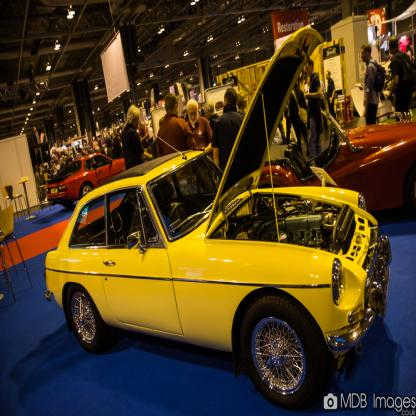Car: (45, 25, 393, 410), (251, 109, 416, 219), (49, 153, 126, 209)
